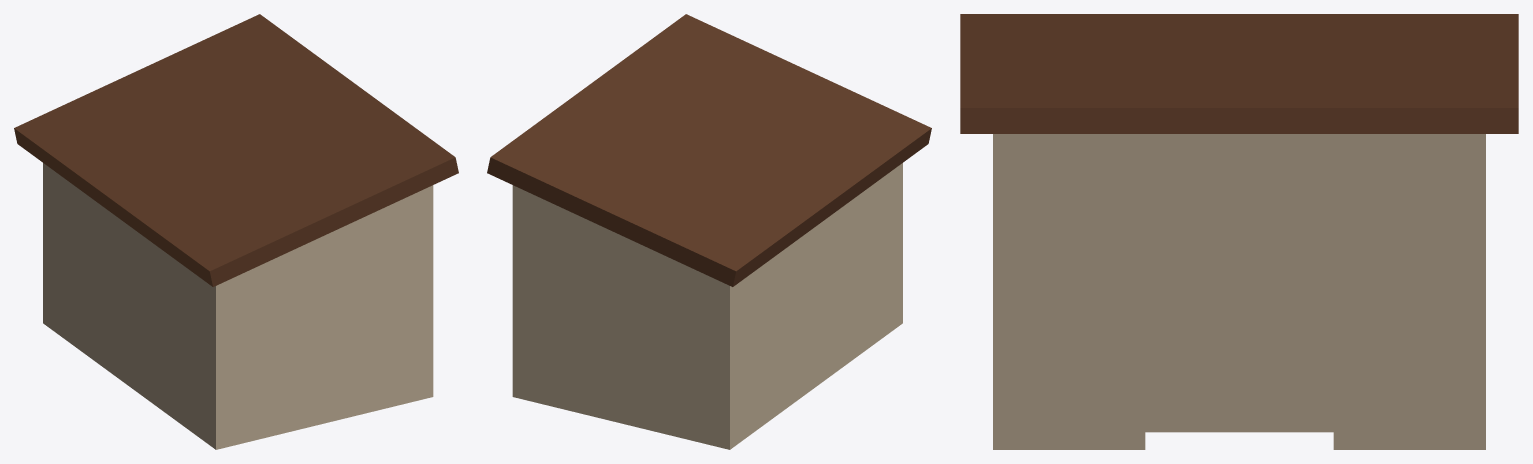
Rendered from 690 House 1.fbx.
The picture shows the model from 3 angles, left to right: view 1: azimuth 30°, elevation 25°; view 2: azimuth 150°, elevation 25°; view 3: azimuth 270°, elevation 25°; orthographic projection. The views are drawn at different scales.
Visible parts, largest first — view 1: House, Roof; view 2: House, Roof; view 3: House, Roof.
Boxes of the visible parts, box(x1,y1,x2,y2) form: House: box(43, 163, 433, 449); Roof: box(14, 14, 458, 286); House: box(512, 163, 902, 449); Roof: box(487, 14, 931, 286); House: box(993, 134, 1485, 449); Roof: box(960, 14, 1518, 133).
Bounding box in the file's own units: 351 × 331 × 478.
